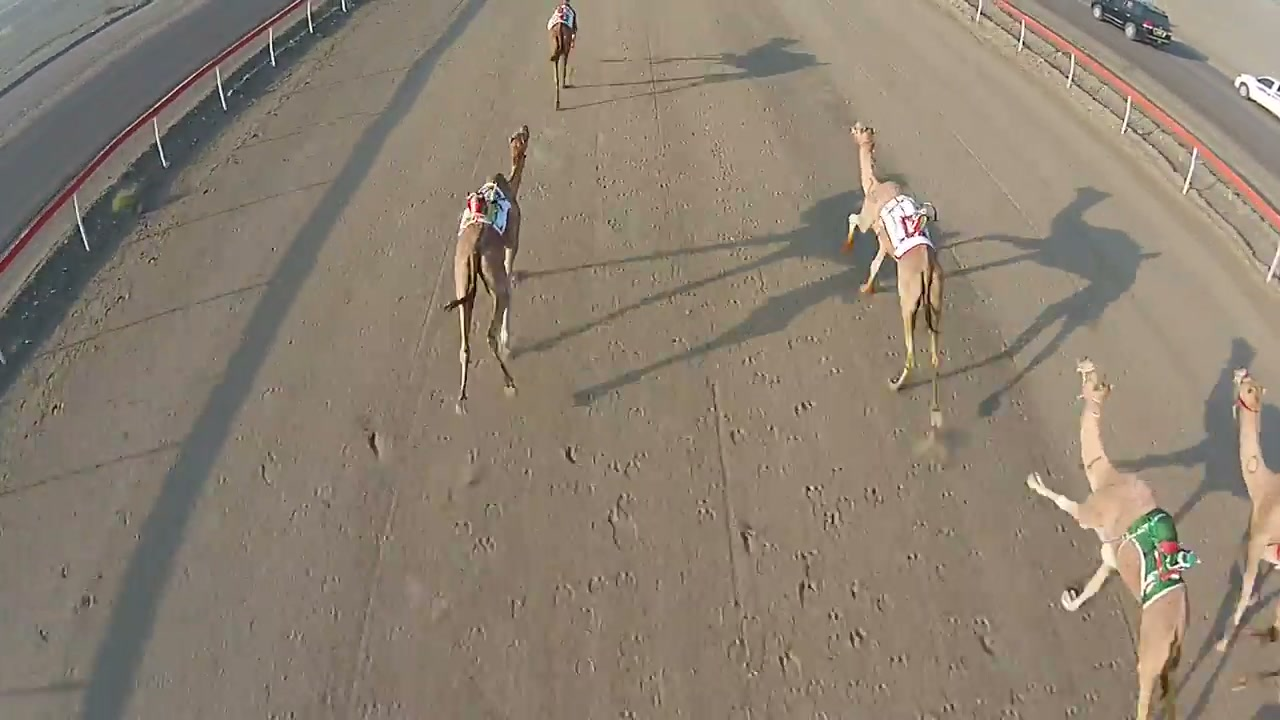animal_footprint: (702, 195, 1022, 719), (420, 235, 669, 709)
